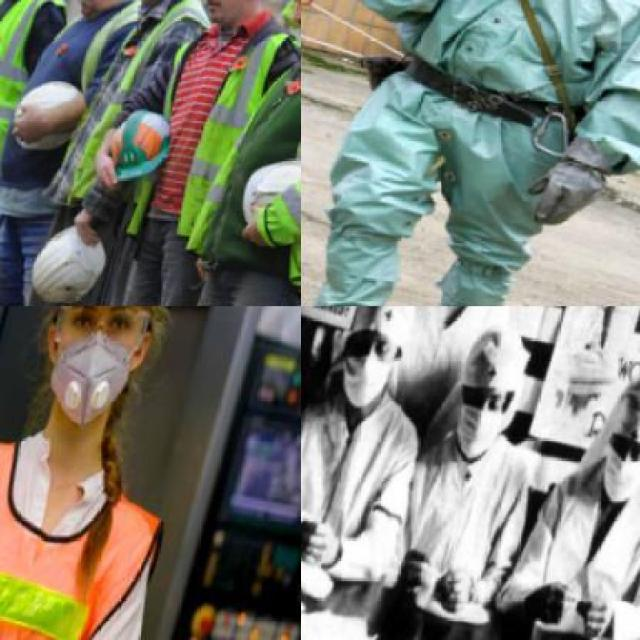vest: (311, 0, 638, 305), (128, 0, 298, 265), (0, 417, 186, 638), (63, 0, 226, 231), (195, 16, 298, 304), (0, 0, 74, 188)
